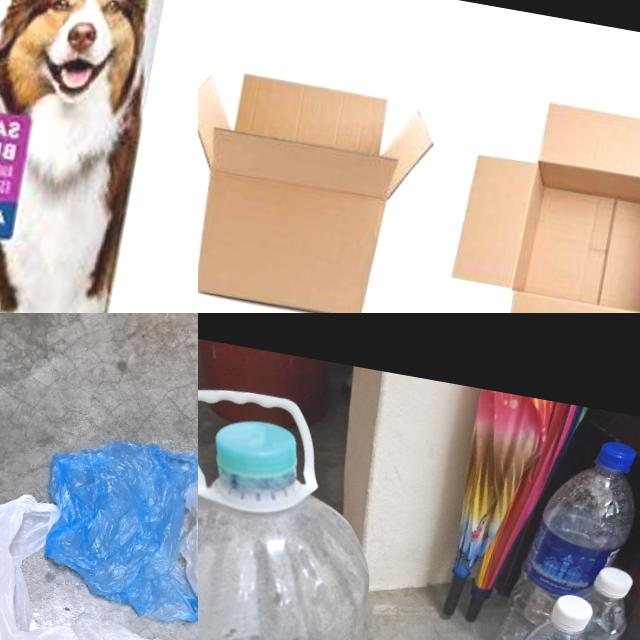garrafa plástica: (198, 62, 443, 313), (437, 86, 640, 313), (198, 457, 390, 640), (491, 460, 636, 640), (551, 590, 633, 640)
lata: (0, 0, 197, 313)
sacola plástica: (26, 418, 198, 629), (0, 469, 105, 640), (149, 473, 198, 640)
tampa plástica: (203, 414, 305, 504), (547, 591, 597, 634), (588, 562, 636, 600), (597, 438, 635, 470)
